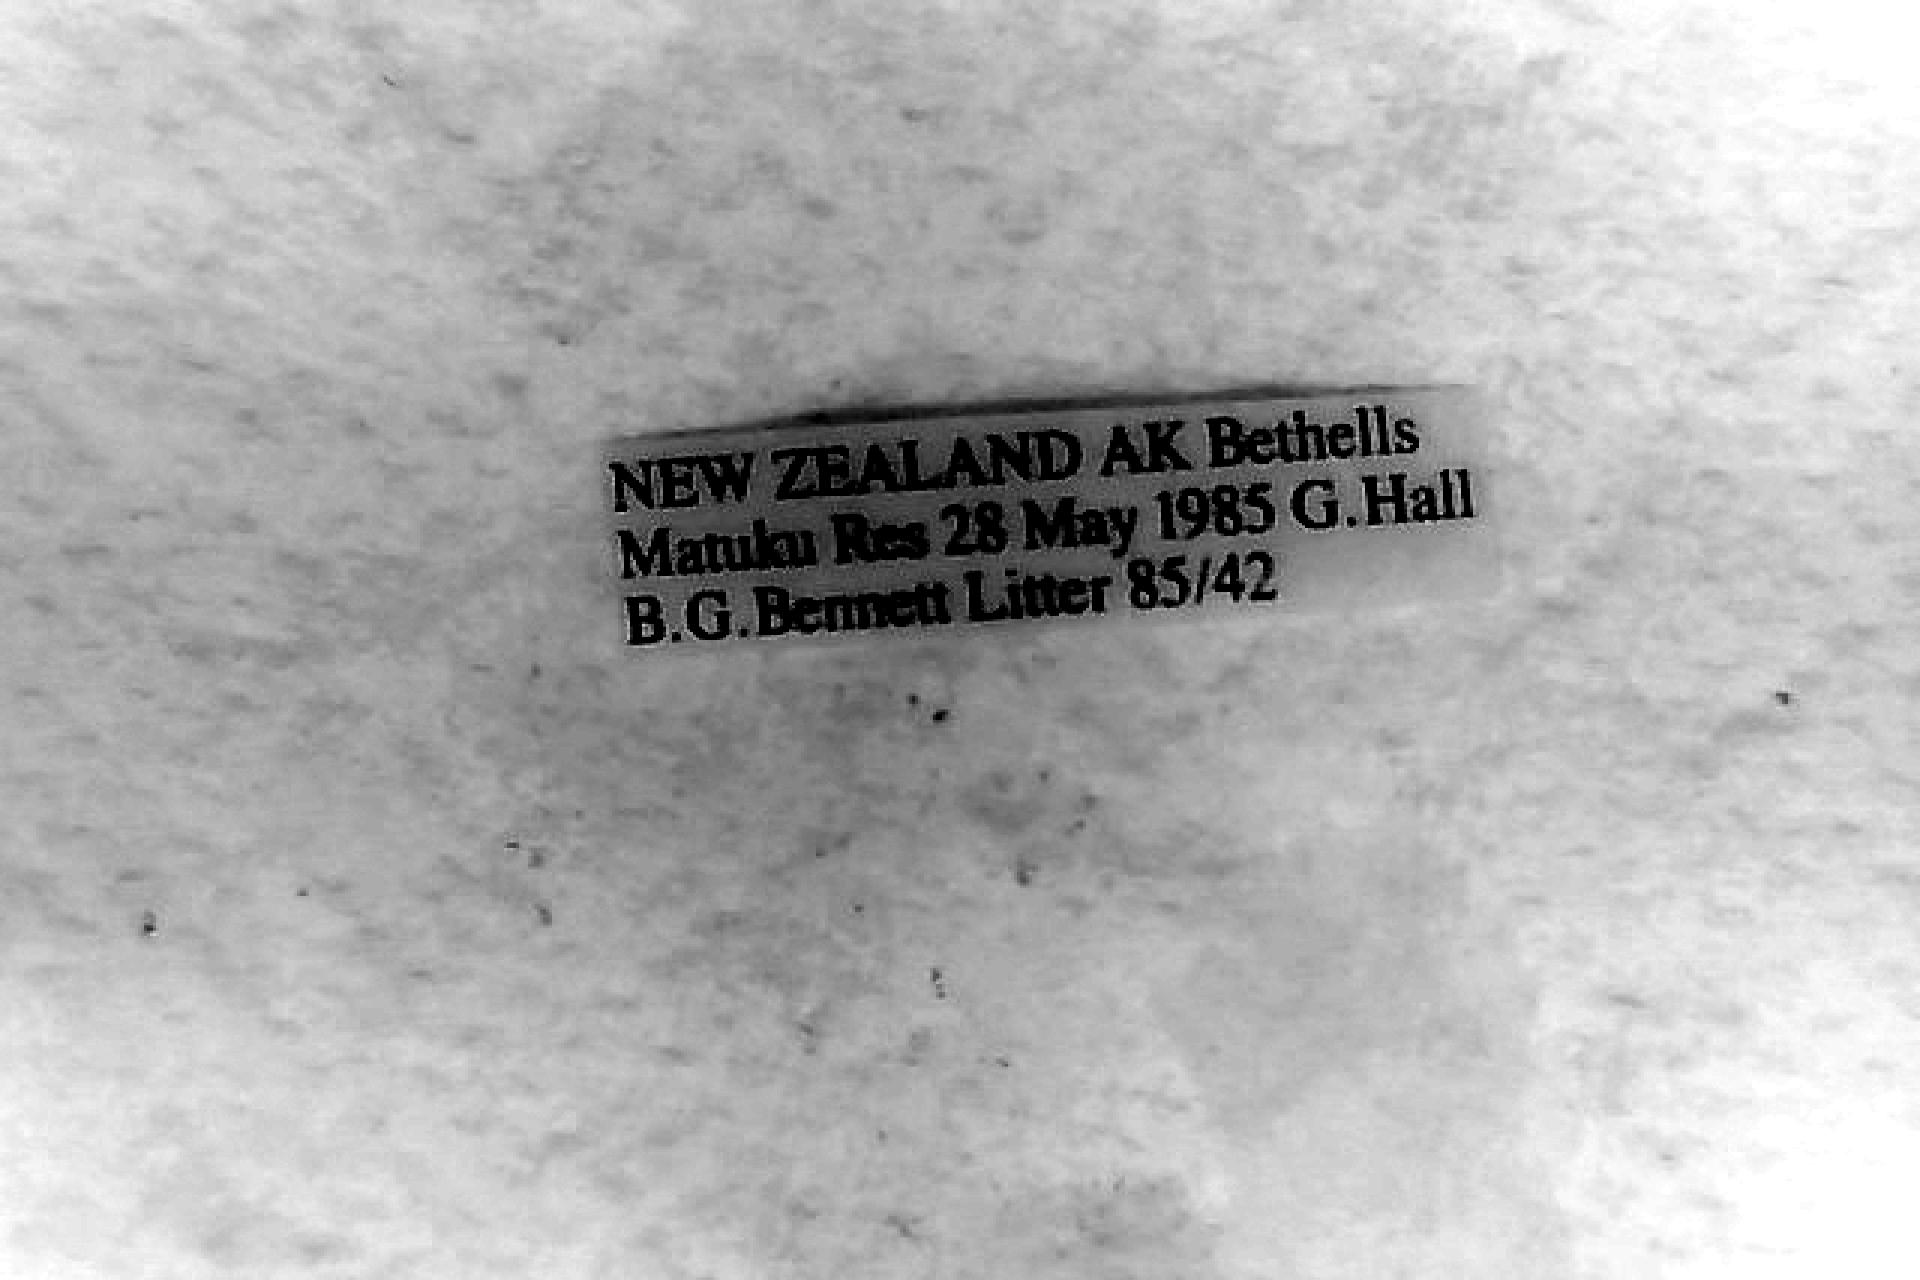typed_label: (604, 387, 1493, 650)
